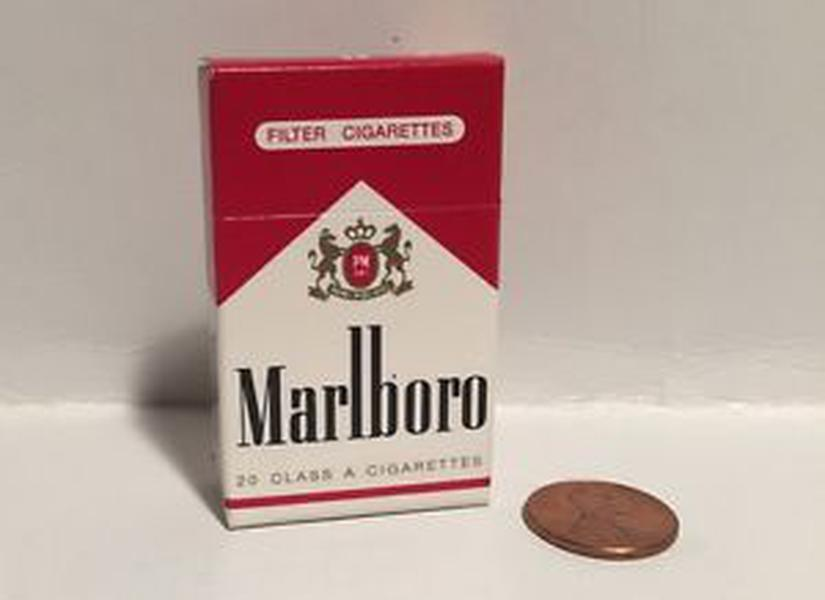marlboro_red: (215, 62, 489, 506)
